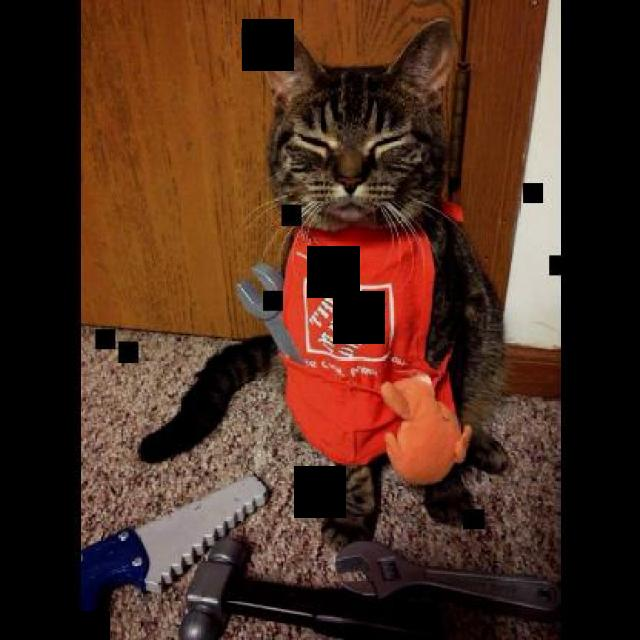unauthorized: (135, 15, 511, 543)
